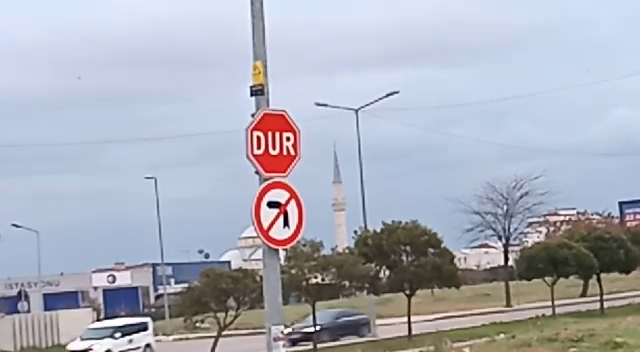no_left: (250, 178, 306, 251)
stop: (243, 106, 304, 181)
